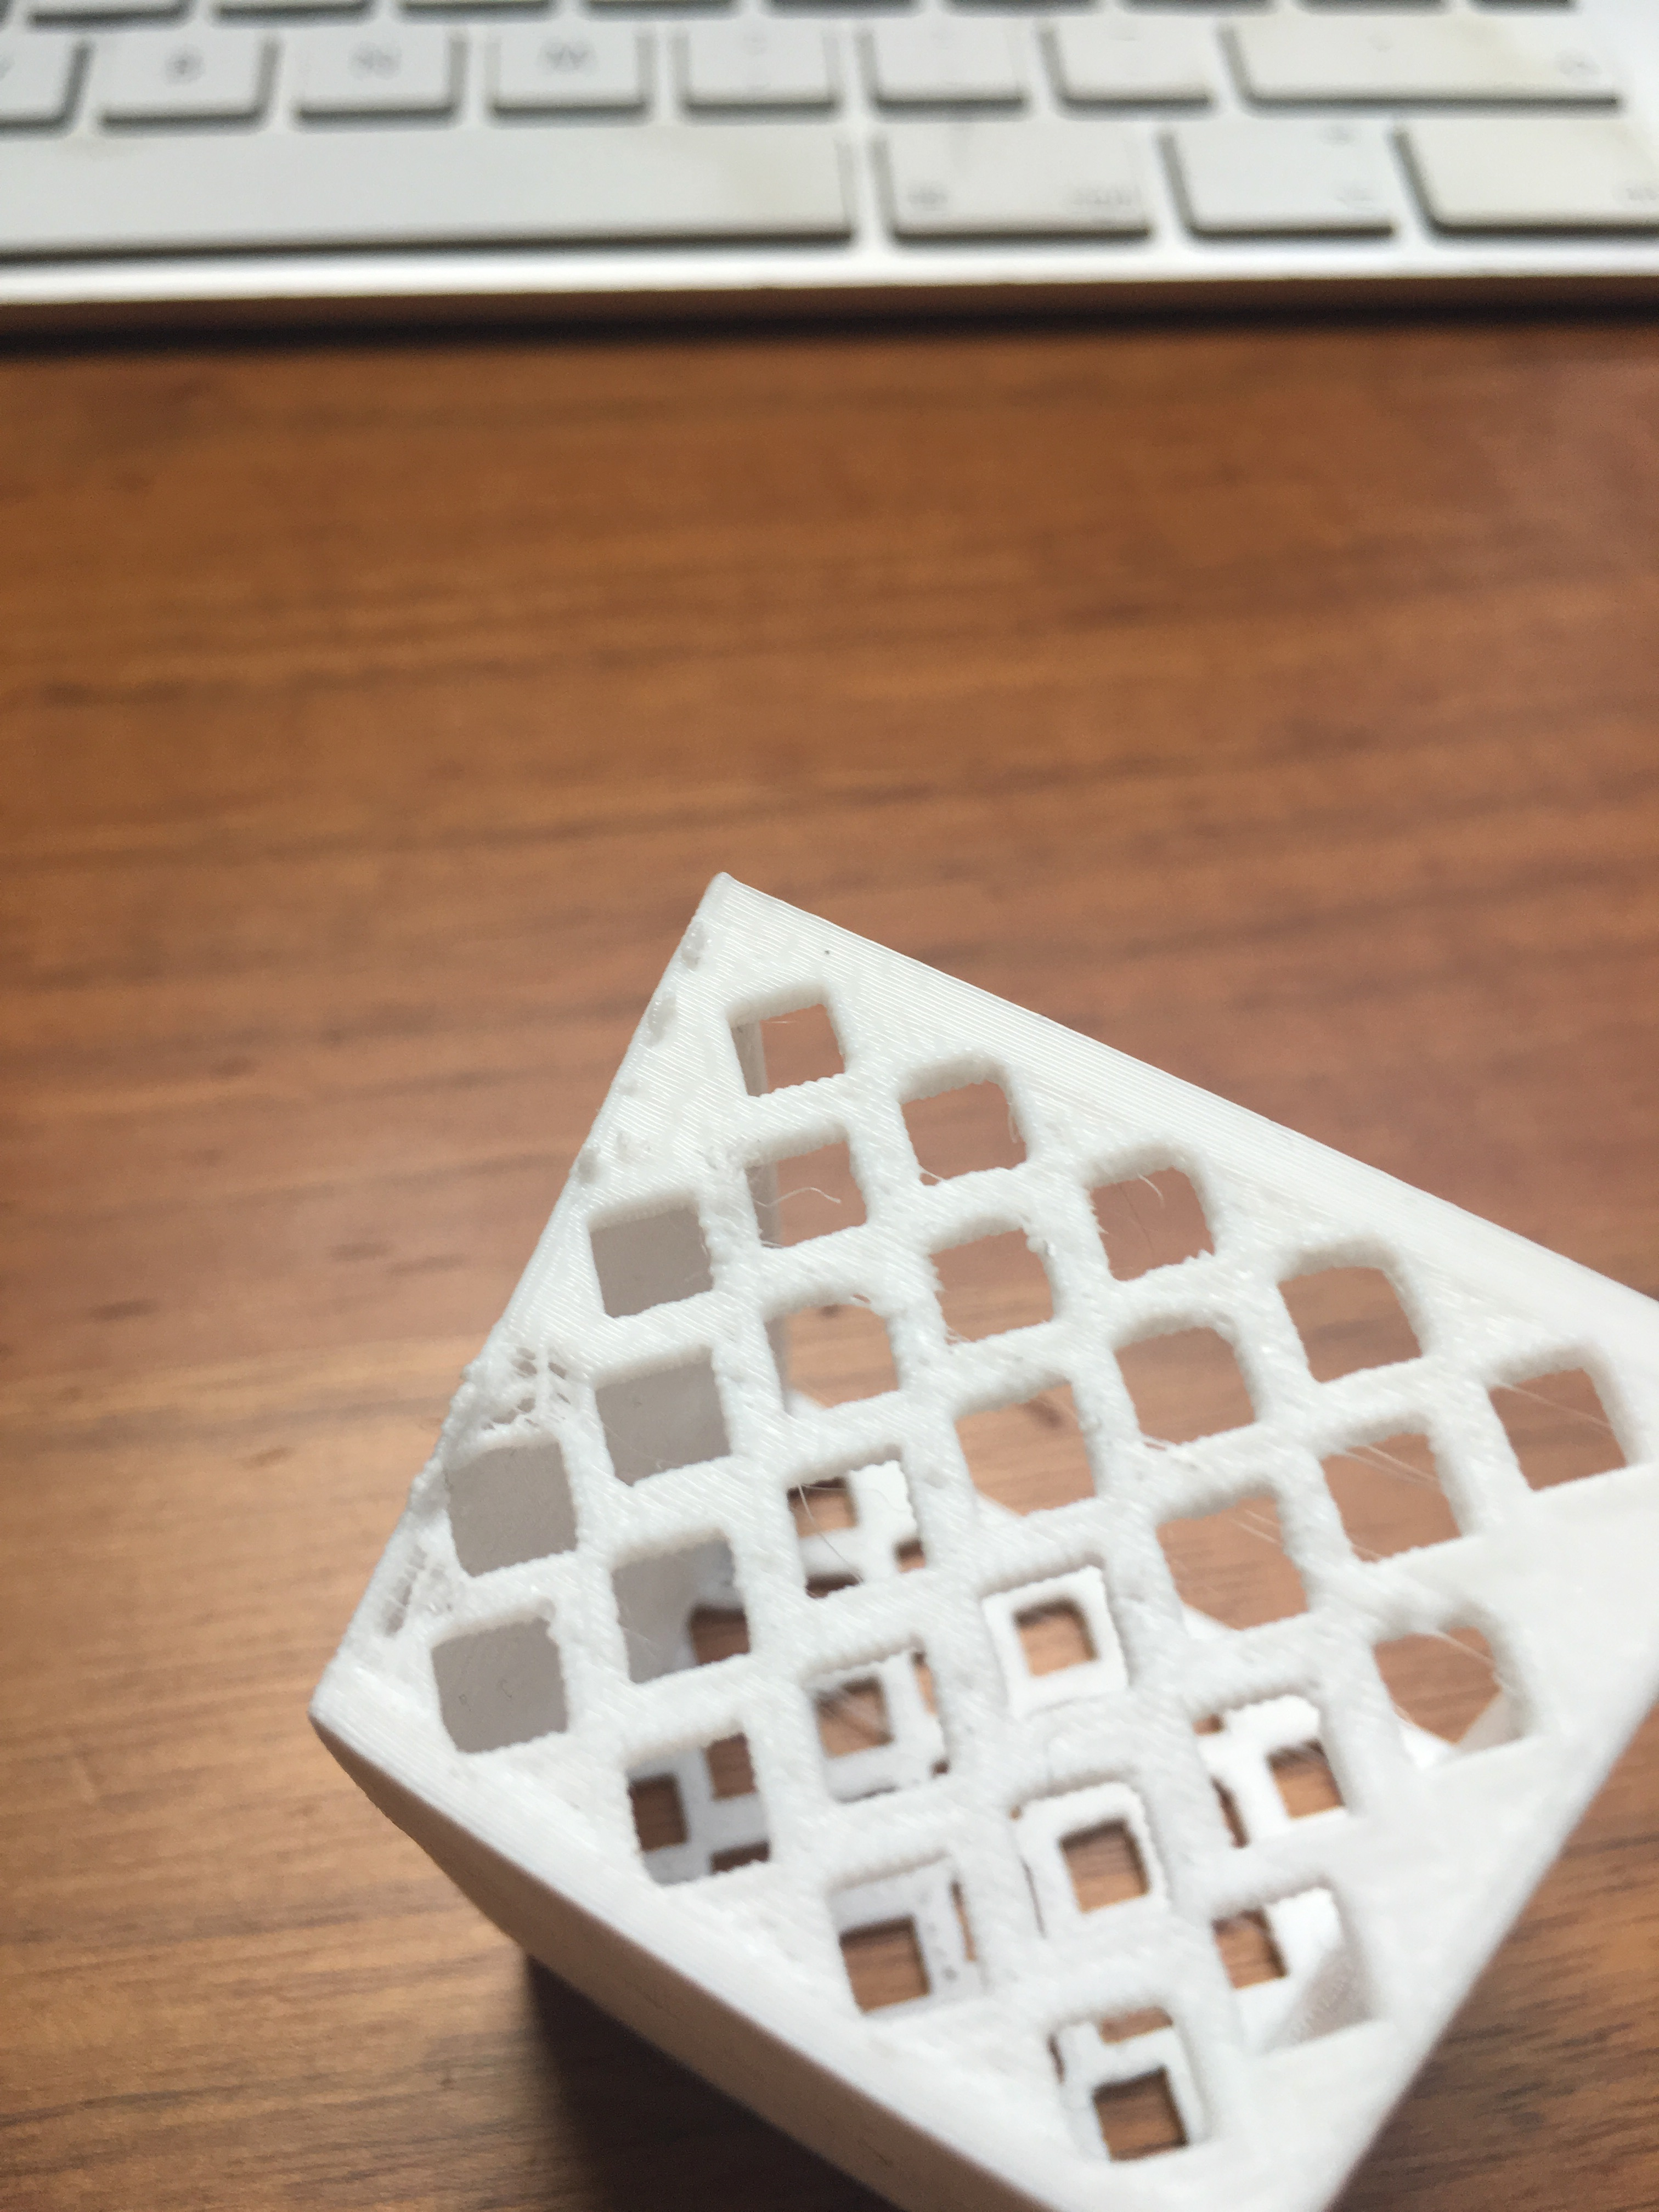3dpstringing: (1305, 1413, 1486, 1552), (1359, 1609, 1556, 1709), (1474, 1369, 1647, 1444), (807, 1266, 932, 1346), (1122, 1393, 1220, 1484), (1100, 1144, 1218, 1212), (756, 1157, 859, 1231), (901, 1153, 965, 1197)
3dpunderextrusion: (413, 1345, 638, 1468), (342, 1531, 502, 1656), (547, 1129, 678, 1202), (636, 972, 704, 1052)
